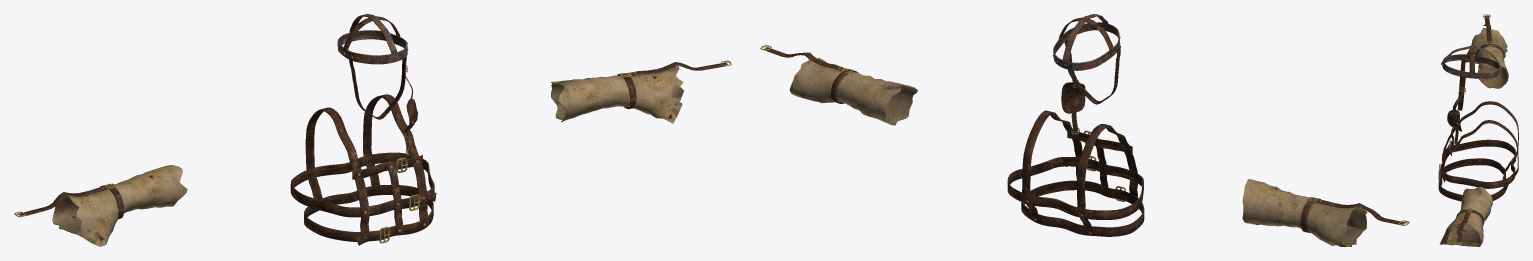
Rendered from zombie_kit_screamer.glb.
3 renders of one model, left to right at view 1: azimuth 30°, elevation 25°; view 2: azimuth 150°, elevation 25°; view 3: azimuth 270°, elevation 25°, orthographic. The views are drawn at different scales.
Parts seen in each view (by area): view 1: Spine2__Harness, RightForeArm__SleeveStrap, LeftForeArm__SleeveStrap, Head__Brace, Head__Muzzle; view 2: Spine2__Harness, RightForeArm__SleeveStrap, LeftForeArm__SleeveStrap, Head__Brace, Head__Muzzle; view 3: Spine2__Harness, LeftForeArm__SleeveStrap, RightForeArm__SleeveStrap, Head__Brace, Head__Muzzle.
Boxes of the visible parts, x1,y1,x2,y2 form: Spine2__Harness: (290,94,436,245); RightForeArm__SleeveStrap: (14,165,187,246); LeftForeArm__SleeveStrap: (551,60,731,123); Head__Brace: (337,14,408,119); Head__Muzzle: (404,73,418,155); Spine2__Harness: (1007,110,1144,236); RightForeArm__SleeveStrap: (1242,179,1409,246); LeftForeArm__SleeveStrap: (760,45,917,125); Head__Brace: (1052,14,1120,104); Head__Muzzle: (1061,60,1085,134); Spine2__Harness: (1438,101,1518,201); LeftForeArm__SleeveStrap: (1439,187,1492,246); RightForeArm__SleeveStrap: (1465,14,1508,88); Head__Brace: (1441,45,1501,110); Head__Muzzle: (1447,91,1463,145).
Bounding box in the file's own units: 2.55 × 0.7237 × 0.3785.
3 materials, 3 textured.
